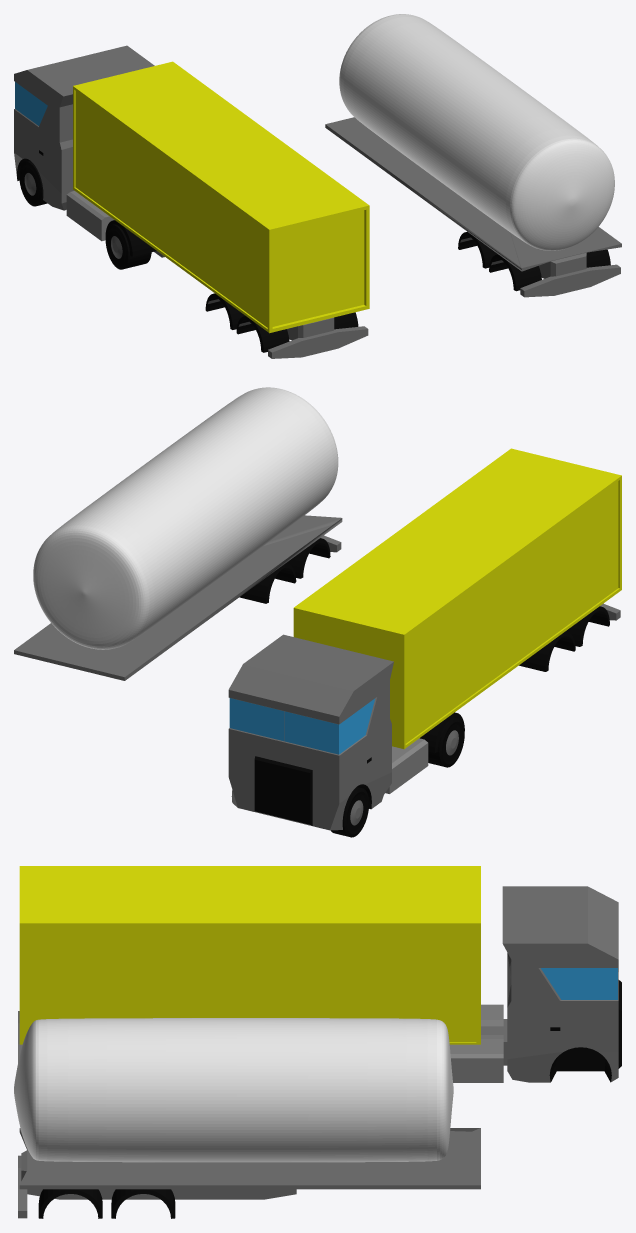
The model's file is Truck.fbx.
The picture shows the model from 3 angles, top to bottom: view 1: azimuth 30°, elevation 25°; view 2: azimuth 150°, elevation 25°; view 3: azimuth 270°, elevation 25°; orthographic projection. The views are drawn at different scales.
Visible parts, largest first — view 1: Cube.001, Cube.002, Cube, WheelBack.001, WheelForward.001; view 2: Cube.001, Cube.002, Cube, WheelBack.001, WheelForward.001; view 3: Cube.002, Cube.001, Cube.
Part boxes in pixels (x1,y1,x2,y2): Cube.001: (73,61,369,358); Cube.002: (325,14,621,297); Cube: (14,45,164,257); WheelBack.001: (105,224,151,269); WheelForward.001: (19,161,47,206); Cube.001: (293,448,621,749); Cube.002: (14,387,342,680); Cube: (228,634,464,830); WheelBack.001: (428,717,464,767); WheelForward.001: (330,787,369,837); Cube.002: (14,1018,480,1218); Cube.001: (18,866,480,1062); Cube: (449,886,621,1082).
Bounding box in the file's own units: 710 × 309 × 897.
